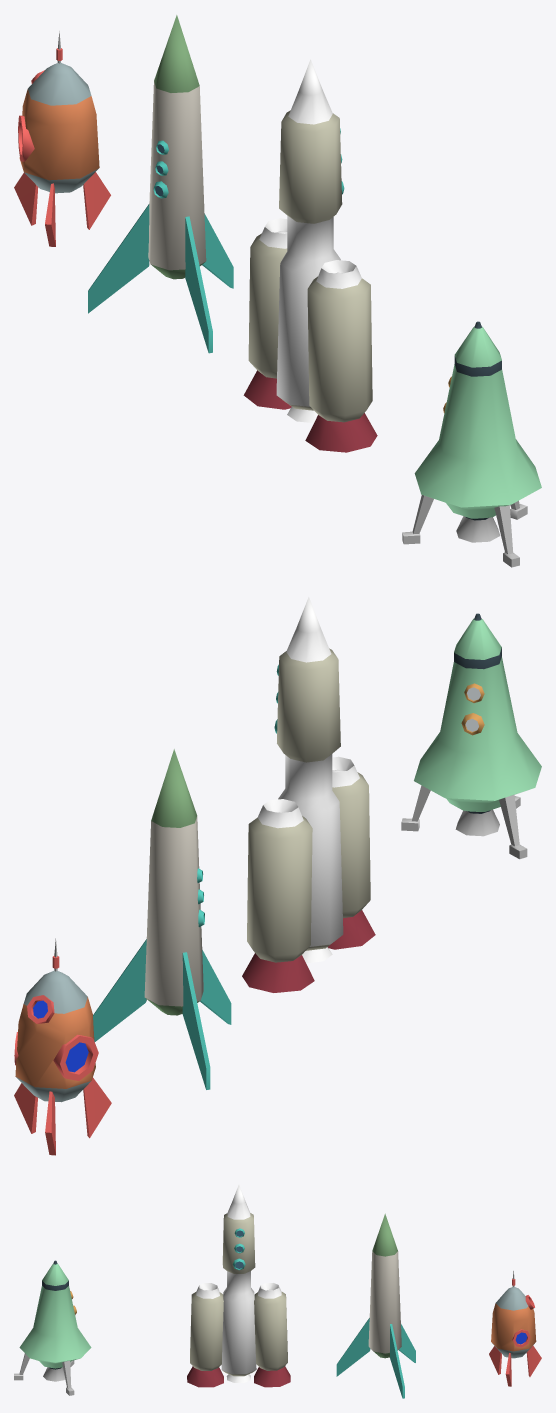
File: rockets.fbx
3 views of the same model, one above another, from view 1: azimuth 30°, elevation 25°; view 2: azimuth 150°, elevation 25°; view 3: azimuth 270°, elevation 25° (orthographic). The views are drawn at different scales.
Parts seen in each view (by area): view 1: rocket_two4, rocket_two, rocket_one, rocket_three, rocket_four, rocket_three4, rocket_four2, rocket_one3, rocket_three6, rocket_three5; view 2: rocket_two4, rocket_two, rocket_one, rocket_three, rocket_four, rocket_three5, rocket_four2, rocket_three4, rocket_one3, rocket_three6; view 3: rocket_two4, rocket_two, rocket_one, rocket_three, rocket_four, rocket_three6, rocket_four2, rocket_three5, rocket_one3, rocket_three4.
Part boxes in pixels (bbox=[...]): rocket_two4: bbox=[243, 218, 377, 452]; rocket_two: bbox=[276, 59, 342, 423]; rocket_one: bbox=[414, 321, 541, 542]; rocket_three: bbox=[148, 15, 206, 279]; rocket_four: bbox=[18, 62, 99, 193]; rocket_three4: bbox=[88, 204, 149, 313]; rocket_four2: bbox=[14, 172, 110, 246]; rocket_one3: bbox=[402, 495, 527, 567]; rocket_three6: bbox=[185, 216, 212, 353]; rocket_three5: bbox=[202, 214, 233, 288]; rocket_two4: bbox=[242, 756, 375, 992]; rocket_two: bbox=[277, 597, 343, 963]; rocket_one: bbox=[414, 613, 541, 836]; rocket_three: bbox=[144, 749, 203, 1015]; rocket_four: bbox=[14, 970, 98, 1102]; rocket_three5: bbox=[93, 939, 146, 1041]; rocket_four2: bbox=[14, 1077, 111, 1155]; rocket_three4: bbox=[182, 952, 210, 1089]; rocket_one3: bbox=[401, 785, 527, 859]; rocket_three6: bbox=[200, 950, 231, 1024]; rocket_two4: bbox=[187, 1283, 290, 1387]; rocket_two: bbox=[221, 1185, 256, 1382]; rocket_one: bbox=[19, 1260, 91, 1381]; rocket_three: bbox=[368, 1213, 401, 1358]; rocket_four: bbox=[491, 1287, 536, 1358]; rocket_three6: bbox=[336, 1318, 370, 1376]; rocket_four2: bbox=[489, 1345, 541, 1386]; rocket_three5: bbox=[390, 1324, 404, 1398]; rocket_one3: bbox=[14, 1353, 74, 1395]; rocket_three4: bbox=[399, 1324, 415, 1362].
Bounding box in the file's own units: 243 × 617 × 1508.
